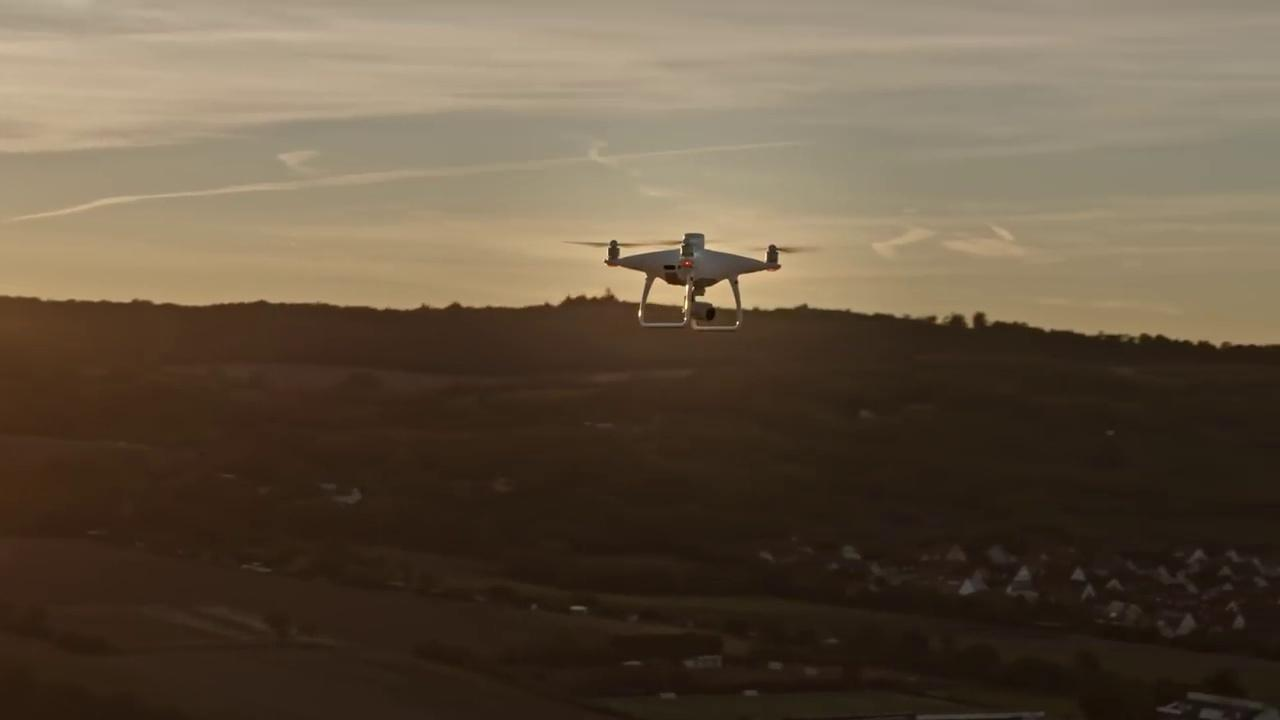drone: (563, 230, 826, 330)
